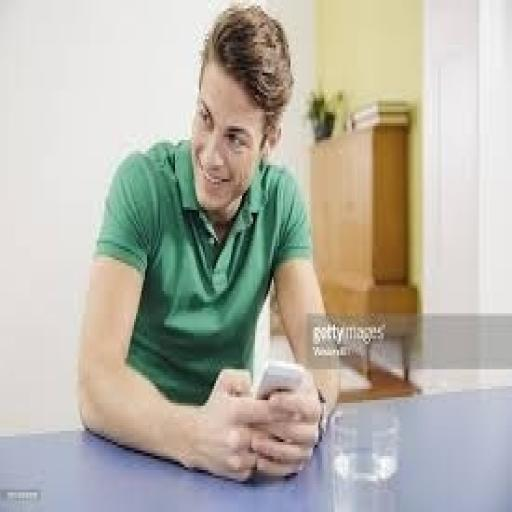texting: (74, 3, 342, 484)
